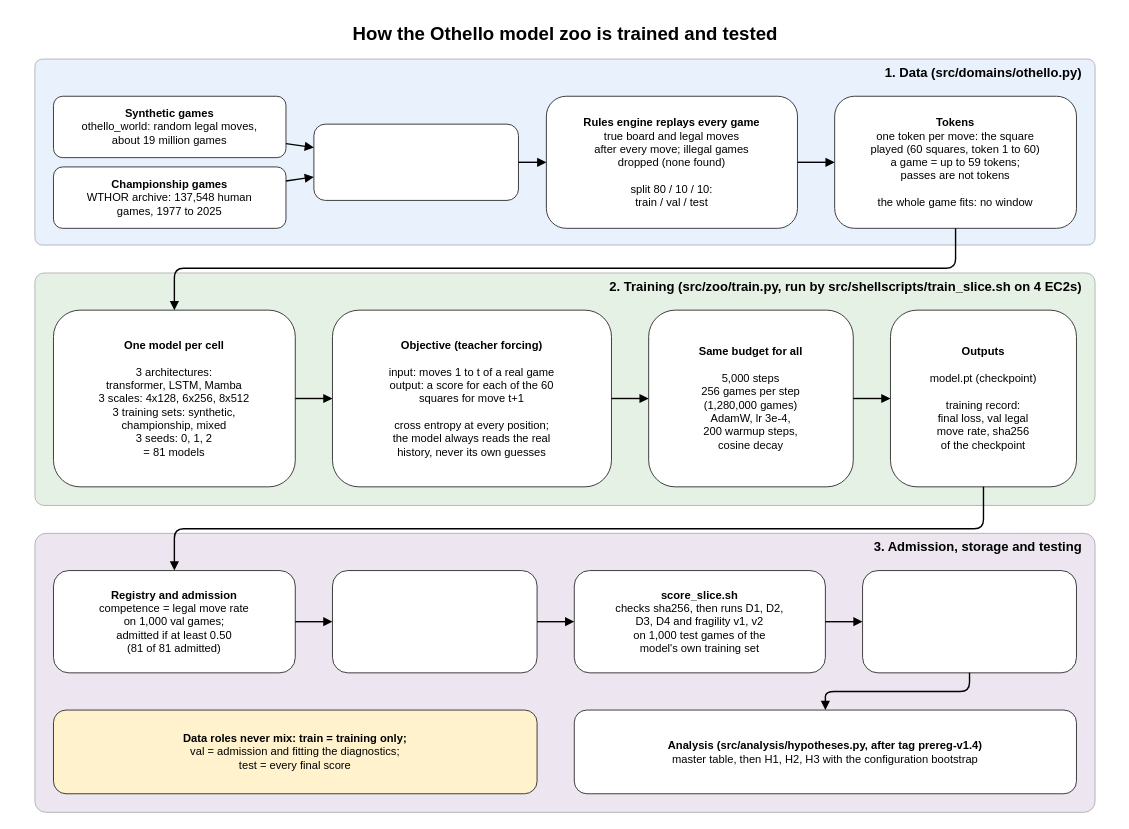
The diagram is 1129 pixels wide and 829 high, and some of its shapes have lost their labels. The centre of each missing label's shape, as x and y in pixels:
"Results one JSON per model and test (486 files, all status ok)" belongs at pixel 969 621.
"Shared storage S3: shared/group6/zoo/ one folder per model" belongs at pixel 434 621.
"Three training sets synthetic, championship, mixed (both pools together)" belongs at pixel 415 161.
